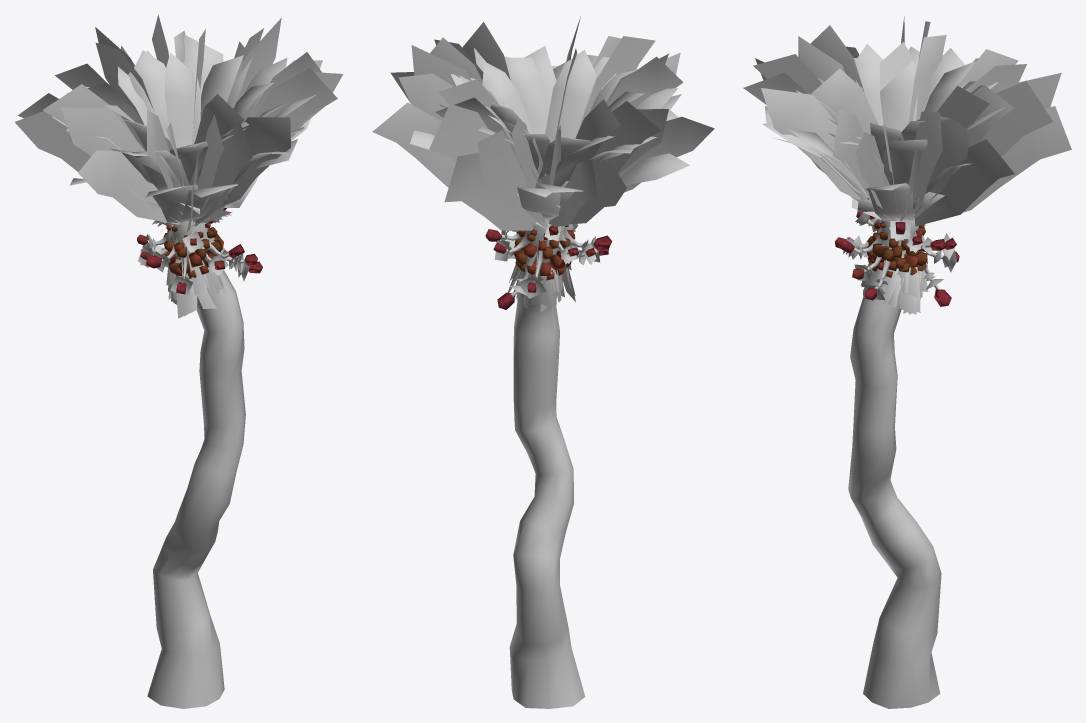
File: Tree6_2_L2.fbx
The picture shows the model from 3 angles, left to right: view 1: azimuth 30°, elevation 25°; view 2: azimuth 150°, elevation 25°; view 3: azimuth 270°, elevation 25°; orthographic projection.
Parts seen in each view (by area): view 1: polySurface80; view 2: polySurface80; view 3: polySurface80.
Boxes of the visible parts, x1,y1,x2,y2 form: polySurface80: (15,14,343,708); polySurface80: (372,16,714,708); polySurface80: (743,16,1071,708).
Size of the model in its own units: 656 by 1396 by 653.
